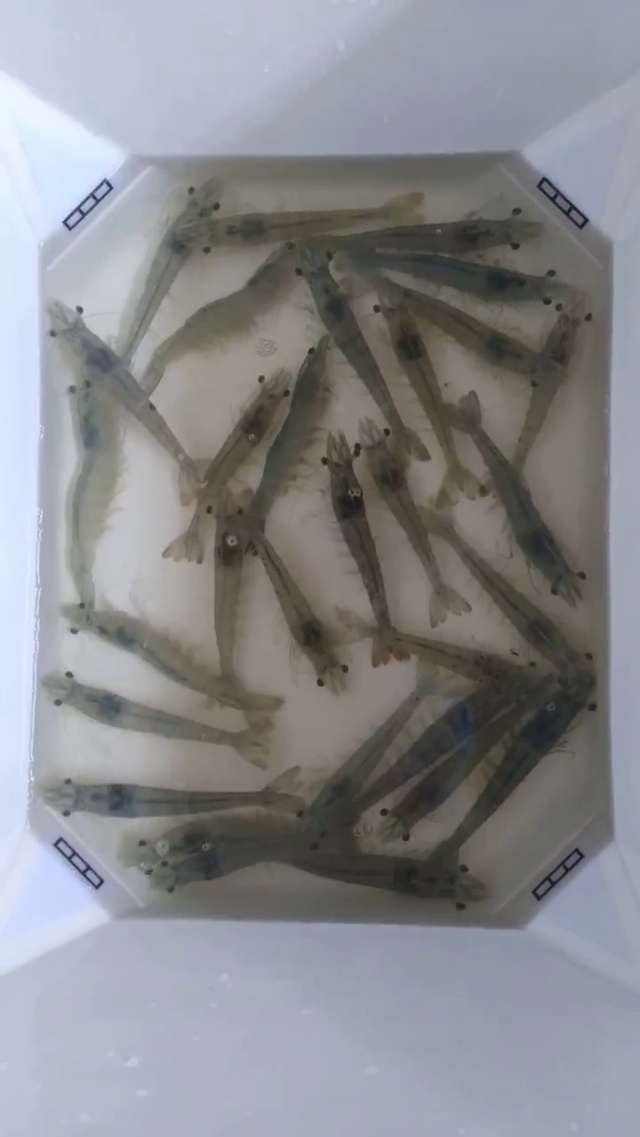shrimp: (544, 408, 639, 737), (164, 413, 257, 673), (313, 690, 418, 891), (581, 143, 639, 482), (120, 178, 221, 364), (579, 497, 639, 801), (86, 332, 197, 496), (30, 781, 137, 944), (163, 400, 259, 562), (455, 539, 567, 671), (276, 351, 363, 520), (250, 534, 339, 684), (424, 512, 517, 655), (39, 236, 118, 390), (221, 199, 333, 304), (60, 574, 176, 675), (379, 431, 479, 548), (511, 175, 590, 318), (401, 797, 495, 911), (355, 362, 429, 497), (329, 226, 436, 318), (0, 596, 38, 821), (41, 671, 152, 731)
